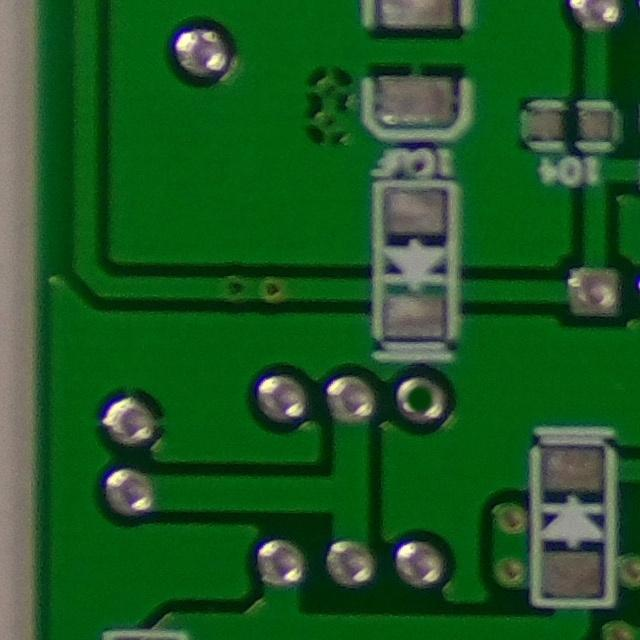missing_hole: (387, 366, 453, 428)
